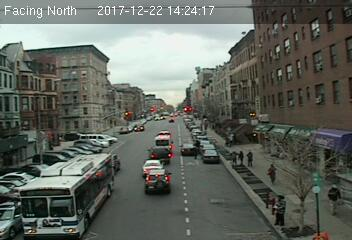bus: (18, 153, 114, 238)
car: (144, 169, 171, 195), (148, 146, 170, 161), (179, 142, 198, 158), (142, 159, 163, 173), (204, 148, 220, 164)
pedestrian: (328, 184, 343, 218), (275, 192, 286, 225), (268, 162, 276, 185), (230, 150, 238, 172), (237, 150, 246, 167), (247, 150, 254, 169)
